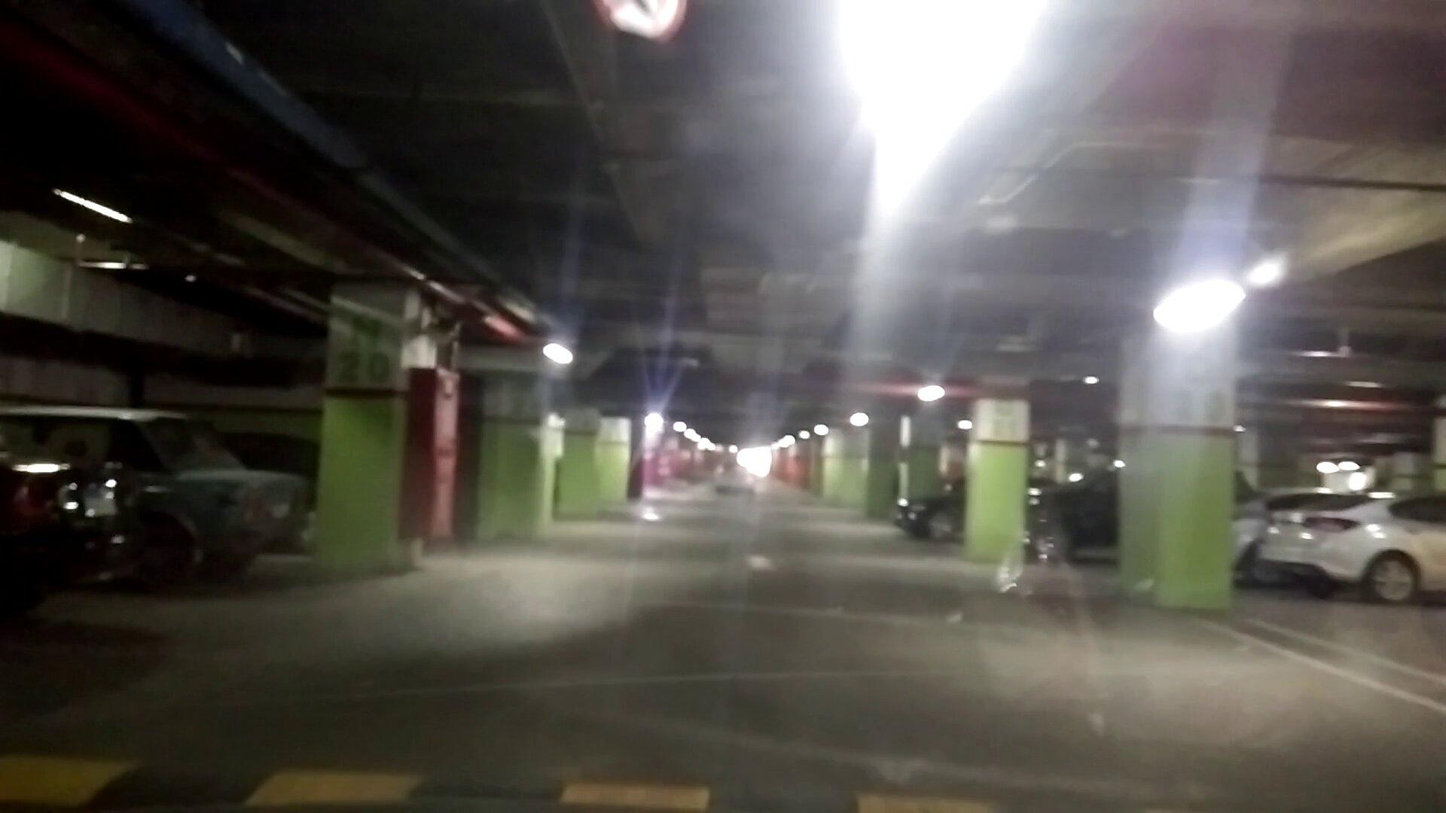Bump: (2, 749, 973, 813)
